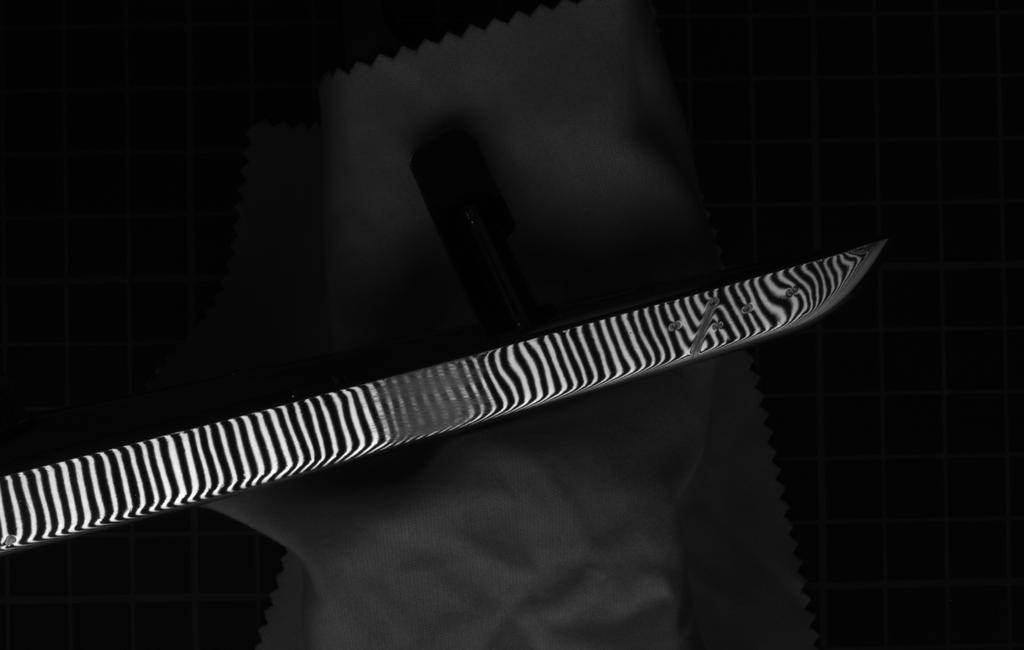Pierced: (664, 314, 686, 336), (783, 281, 803, 304), (708, 317, 730, 336), (736, 297, 755, 317)
Pitting: (371, 346, 503, 453)
Scratch: (684, 289, 722, 358)
